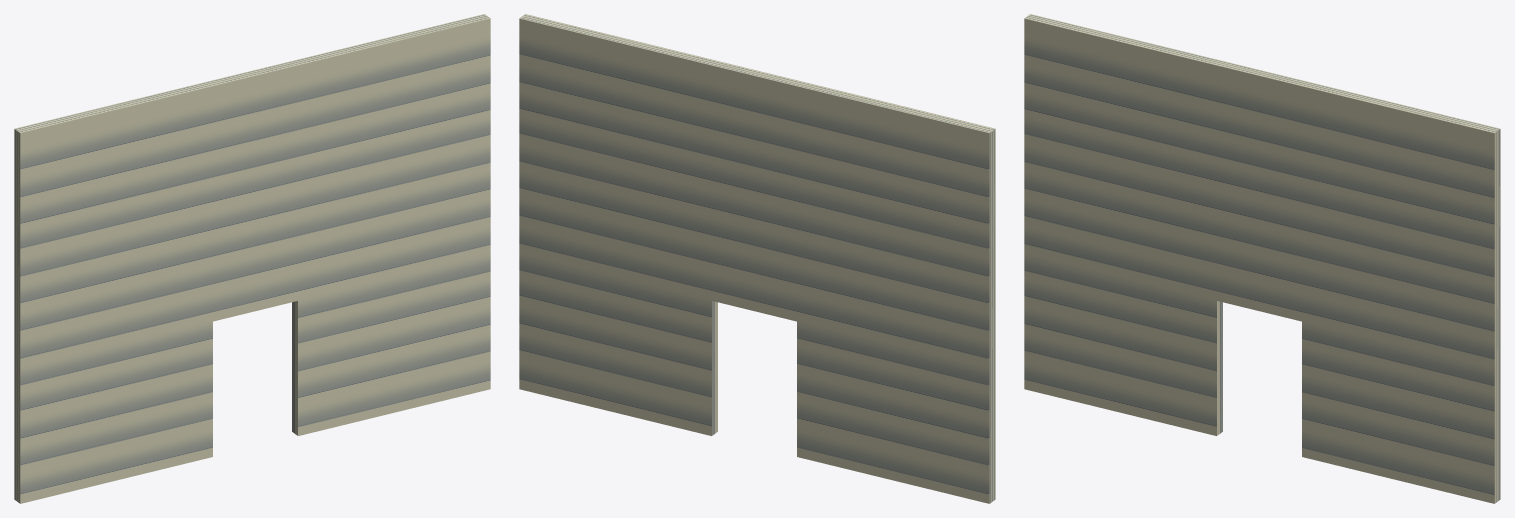
The model's file is HouseWalls.fbx.
3 views of the same model, side by side, from view 1: azimuth 30°, elevation 25°; view 2: azimuth 150°, elevation 25°; view 3: azimuth 330°, elevation 25° (orthographic).
Visible parts, largest first — view 1: HouseWall; view 2: HouseWall; view 3: HouseWall.
Boxes of the visible parts, bbox=[...] form: HouseWall: bbox=[14, 14, 490, 503]; HouseWall: bbox=[519, 14, 995, 503]; HouseWall: bbox=[1024, 14, 1500, 503].
Size of the model in its own units: 633 by 476 by 14.41.
1 material, 1 textured.
